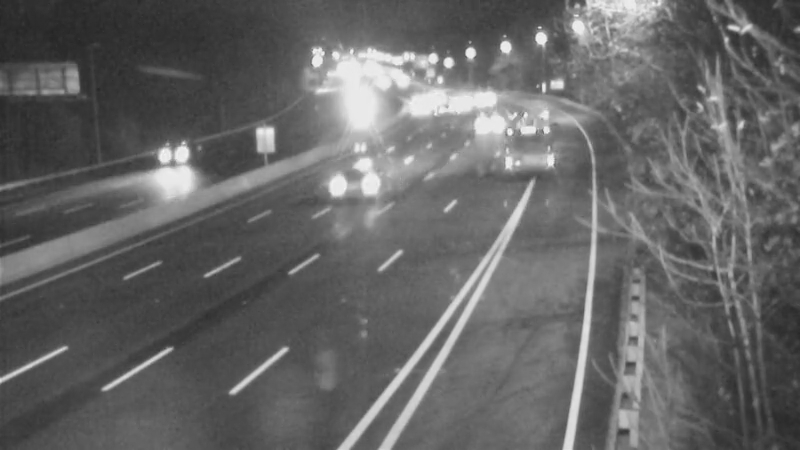vehicle: (316, 151, 396, 231), (131, 113, 211, 193), (460, 73, 510, 123), (439, 78, 489, 128), (396, 81, 446, 131), (416, 88, 466, 138), (460, 93, 510, 143), (498, 113, 548, 163), (336, 83, 386, 133)
